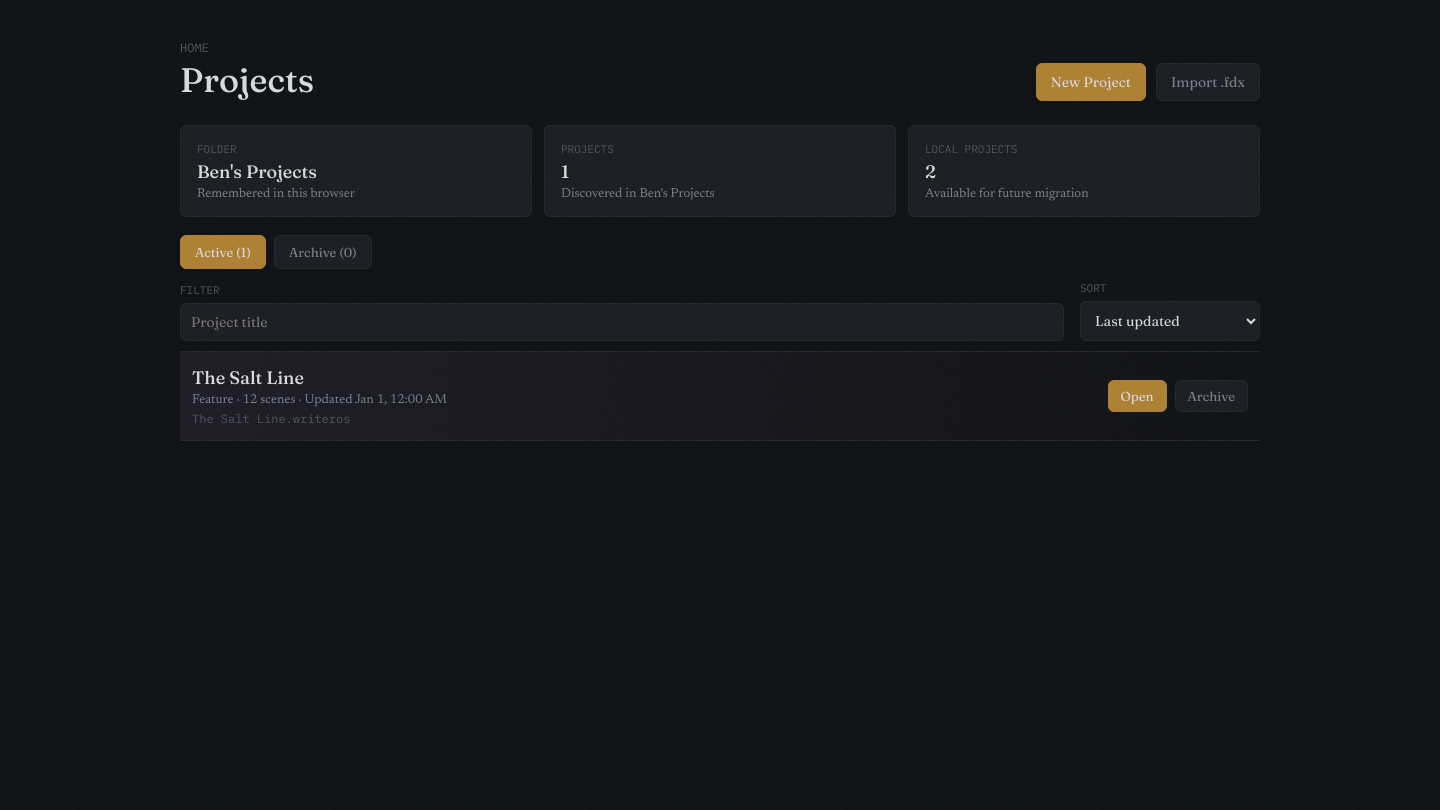
Test case: HomeSurface › project Delete (Slice 5a) › mentions the Archive subfolder move for folder-backed projects (Slice 5a-2)
Click the button with aria-label "Archive The Salt Line". click: (1211, 396)
box: [1175,380,1248,412]
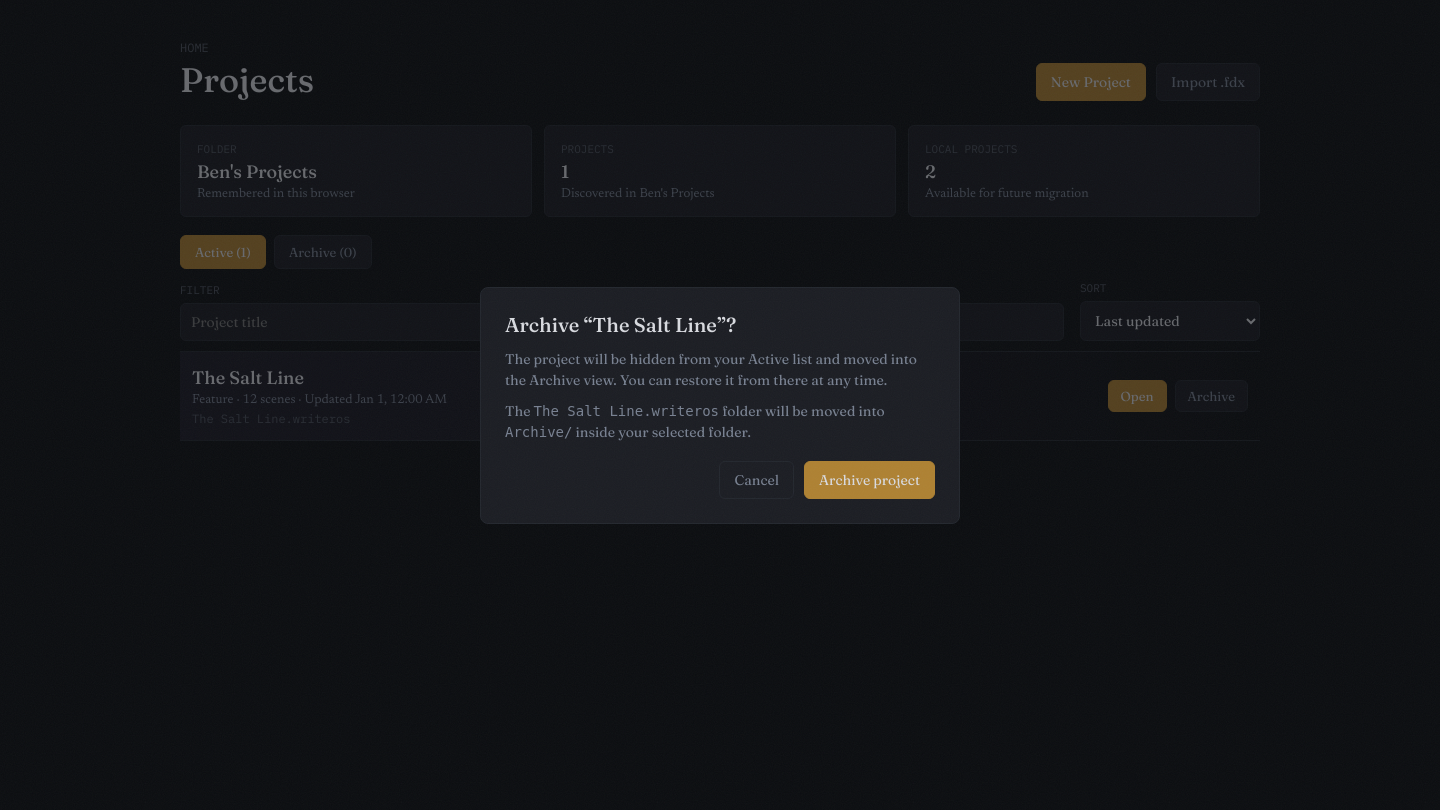
Check: the text "The Salt Line.writeros" is shown, box [534,402,719,418]
Check: the dialog shows "moved into", box [505,350,917,388]
